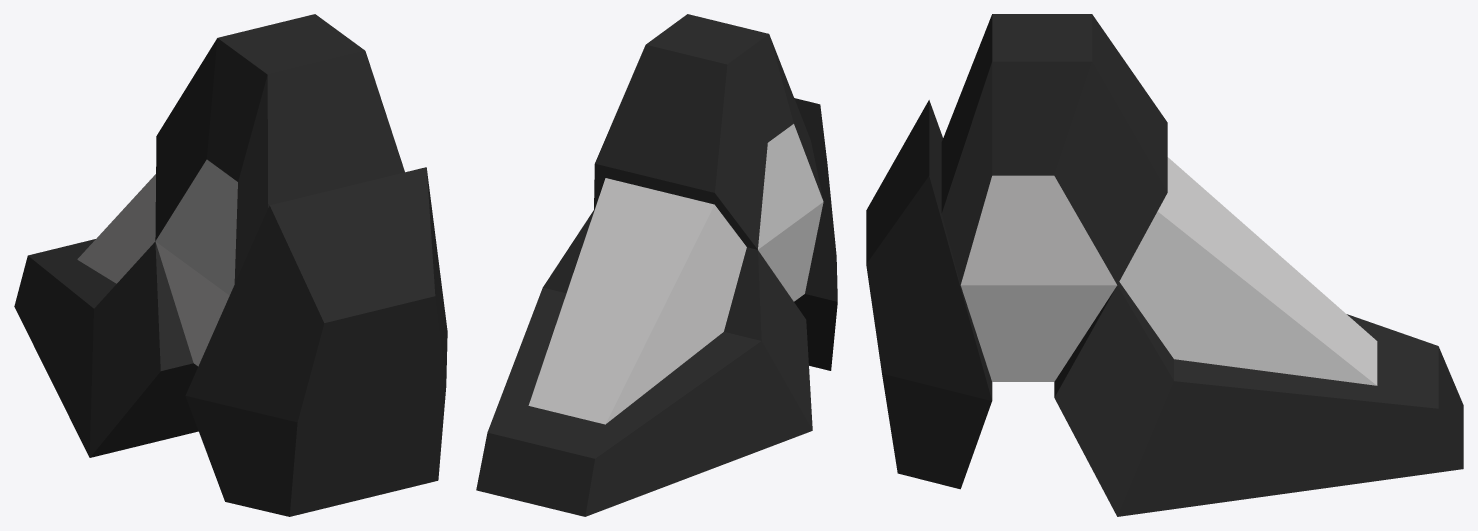
File: LShoes.fbx
3 renders of one model, left to right at view 1: azimuth 30°, elevation 25°; view 2: azimuth 150°, elevation 25°; view 3: azimuth 270°, elevation 25°, orthographic. The views are drawn at different scales.
Parts seen in each view (by area): view 1: Shape_IndexedFaceSet.049, Shape_IndexedFaceSet.047, Shape_IndexedFaceSet.048; view 2: Shape_IndexedFaceSet.049, Shape_IndexedFaceSet.048, Shape_IndexedFaceSet.047; view 3: Shape_IndexedFaceSet.049, Shape_IndexedFaceSet.048, Shape_IndexedFaceSet.047.
Boxes of the visible parts, bbox=[...] form: Shape_IndexedFaceSet.049: bbox=[14, 167, 447, 516]; Shape_IndexedFaceSet.047: bbox=[155, 14, 404, 283]; Shape_IndexedFaceSet.048: bbox=[77, 159, 237, 366]; Shape_IndexedFaceSet.049: bbox=[476, 98, 837, 516]; Shape_IndexedFaceSet.048: bbox=[528, 124, 823, 424]; Shape_IndexedFaceSet.047: bbox=[594, 14, 823, 249]; Shape_IndexedFaceSet.049: bbox=[866, 100, 1463, 516]; Shape_IndexedFaceSet.048: bbox=[960, 157, 1377, 385]; Shape_IndexedFaceSet.047: bbox=[941, 14, 1167, 284].
Size of the model in its own units: 0.1521 by 0.1779 by 0.2411.
Materials: 2 (2 with a texture image).
